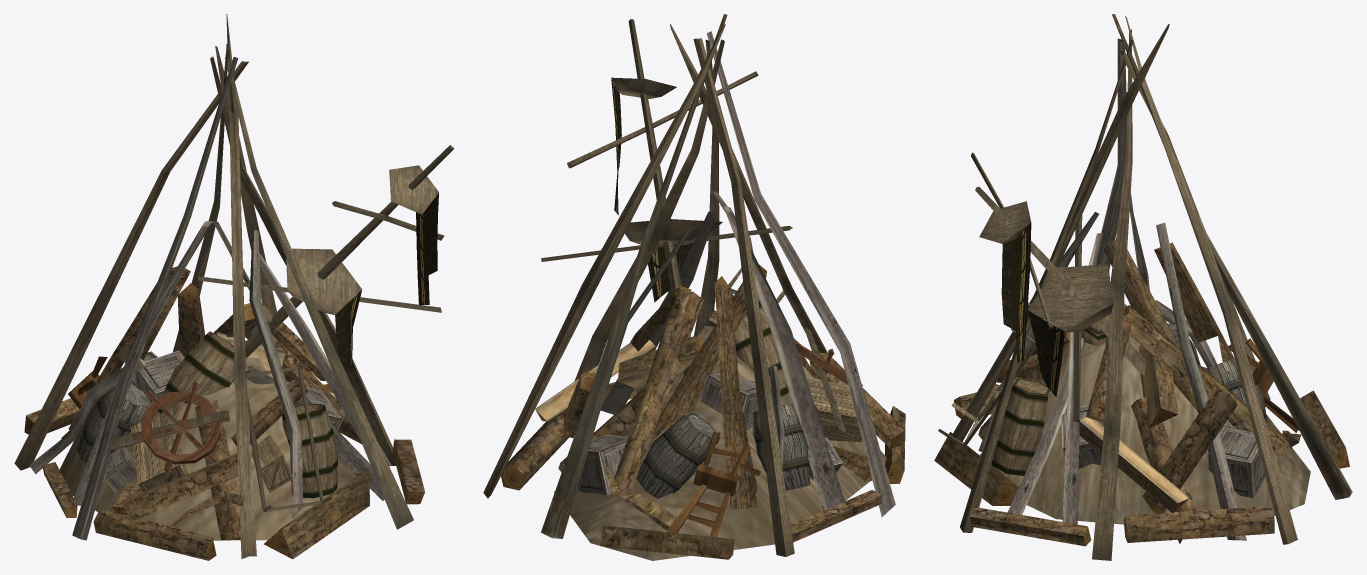
The model's file is pir_m_prp_foo_bonfire.fbx.
3 views of the same model, side by side, from view 1: azimuth 30°, elevation 25°; view 2: azimuth 150°, elevation 25°; view 3: azimuth 270°, elevation 25° (orthographic). The views are drawn at different scales.
Visible parts, largest first — view 1: pasted__ground, pasted__pCylinder2, pasted__pCylinder1, pasted__wood_post3, pasted__pCylinder4, gen_log, pasted__pCylinder28, pasted__barrel_high, pasted__barrel_high1, pasted__log16, pasted__crowsnest_2_high2, pasted__wood_post2 (+32 smaller); view 2: pasted__ground, pasted__wood_post3, pasted__wood_post1, pasted__pCylinder31, pasted__pCylinder4, pasted__pCylinder3, pasted__log17, pasted__polycombine1, barrel, pasted__wood_post2, pasted__polycombine, pasted__log1 (+30 smaller); view 3: pasted__ground, pasted__wood_post2, pasted__pCylinder31, pasted__wood_post1, pasted__log20, pasted__crowsnest_2_high2, pasted__barrel_high1, pasted__pCylinder2, pasted__pCylinder10, pasted__pCylinder1, pasted__log9, pasted__log17 (+27 smaller).
Part boxes in pixels (x1=…): pasted__ground: x1=59, y1=357, x2=356, y2=540; pasted__pCylinder2: x1=226, y1=14, x2=256, y2=558; pasted__pCylinder1: x1=225, y1=56, x2=413, y2=529; pasted__wood_post3: x1=14, y1=61, x2=248, y2=470; pasted__pCylinder4: x1=72, y1=57, x2=238, y2=540; gen_log: x1=264, y1=468, x2=369, y2=559; pasted__pCylinder28: x1=249, y1=230, x2=303, y2=518; pasted__barrel_high: x1=158, y1=331, x2=234, y2=416; pasted__barrel_high1: x1=282, y1=403, x2=338, y2=498; pasted__log16: x1=93, y1=509, x2=216, y2=560; pasted__crowsnest_2_high2: x1=286, y1=248, x2=361, y2=314; pasted__wood_post2: x1=210, y1=56, x2=395, y2=465; pasted__ground: x1=554, y1=326, x2=886, y2=560; pasted__wood_post3: x1=693, y1=38, x2=794, y2=556; pasted__wood_post1: x1=541, y1=14, x2=727, y2=538; pasted__pCylinder31: x1=483, y1=24, x2=725, y2=498; pasted__pCylinder4: x1=707, y1=31, x2=895, y2=516; pasted__pCylinder3: x1=724, y1=206, x2=844, y2=510; pasted__log17: x1=614, y1=288, x2=703, y2=491; pasted__polycombine1: x1=714, y1=276, x2=757, y2=509; barrel: x1=636, y1=411, x2=720, y2=498; pasted__wood_post2: x1=570, y1=39, x2=724, y2=437; pasted__polycombine: x1=648, y1=264, x2=766, y2=445; pasted__log1: x1=600, y1=525, x2=734, y2=559; pasted__ground: x1=980, y1=335, x2=1310, y2=524; pasted__wood_post2: x1=1092, y1=29, x2=1132, y2=560; pasted__pCylinder31: x1=1125, y1=15, x2=1297, y2=544; pasted__wood_post1: x1=1112, y1=14, x2=1352, y2=499; pasted__log20: x1=1123, y1=506, x2=1274, y2=542; pasted__crowsnest_2_high2: x1=1028, y1=264, x2=1113, y2=332; pasted__barrel_high1: x1=991, y1=377, x2=1050, y2=475; pasted__pCylinder2: x1=953, y1=24, x2=1169, y2=441; pasted__pCylinder10: x1=1156, y1=222, x2=1246, y2=540; pasted__pCylinder1: x1=960, y1=40, x2=1133, y2=532; pasted__log9: x1=1142, y1=387, x2=1237, y2=513; pasted__log17: x1=1124, y1=305, x2=1287, y2=456.
Size of the model in its own units: 3037 by 3825 by 3022.
Materials: 2 (2 with a texture image).
